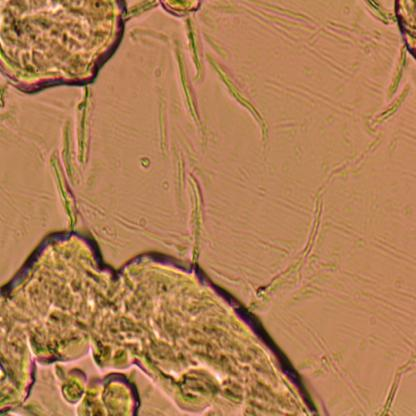Normal: (0, 222, 393, 416)
